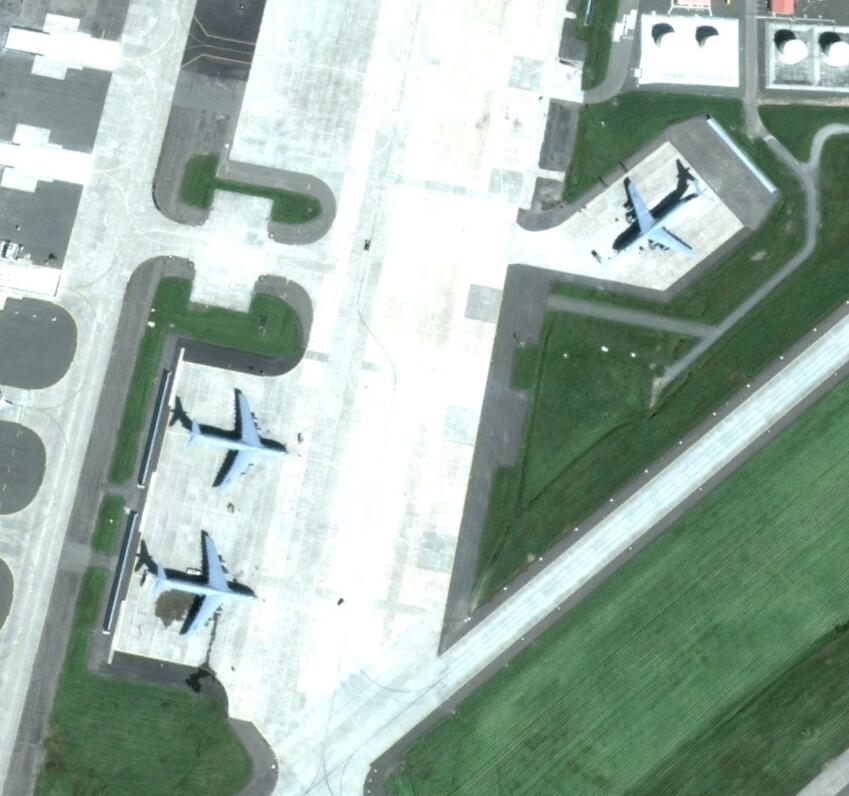A4: (153, 529, 261, 638), (186, 390, 292, 490), (614, 173, 712, 265)
